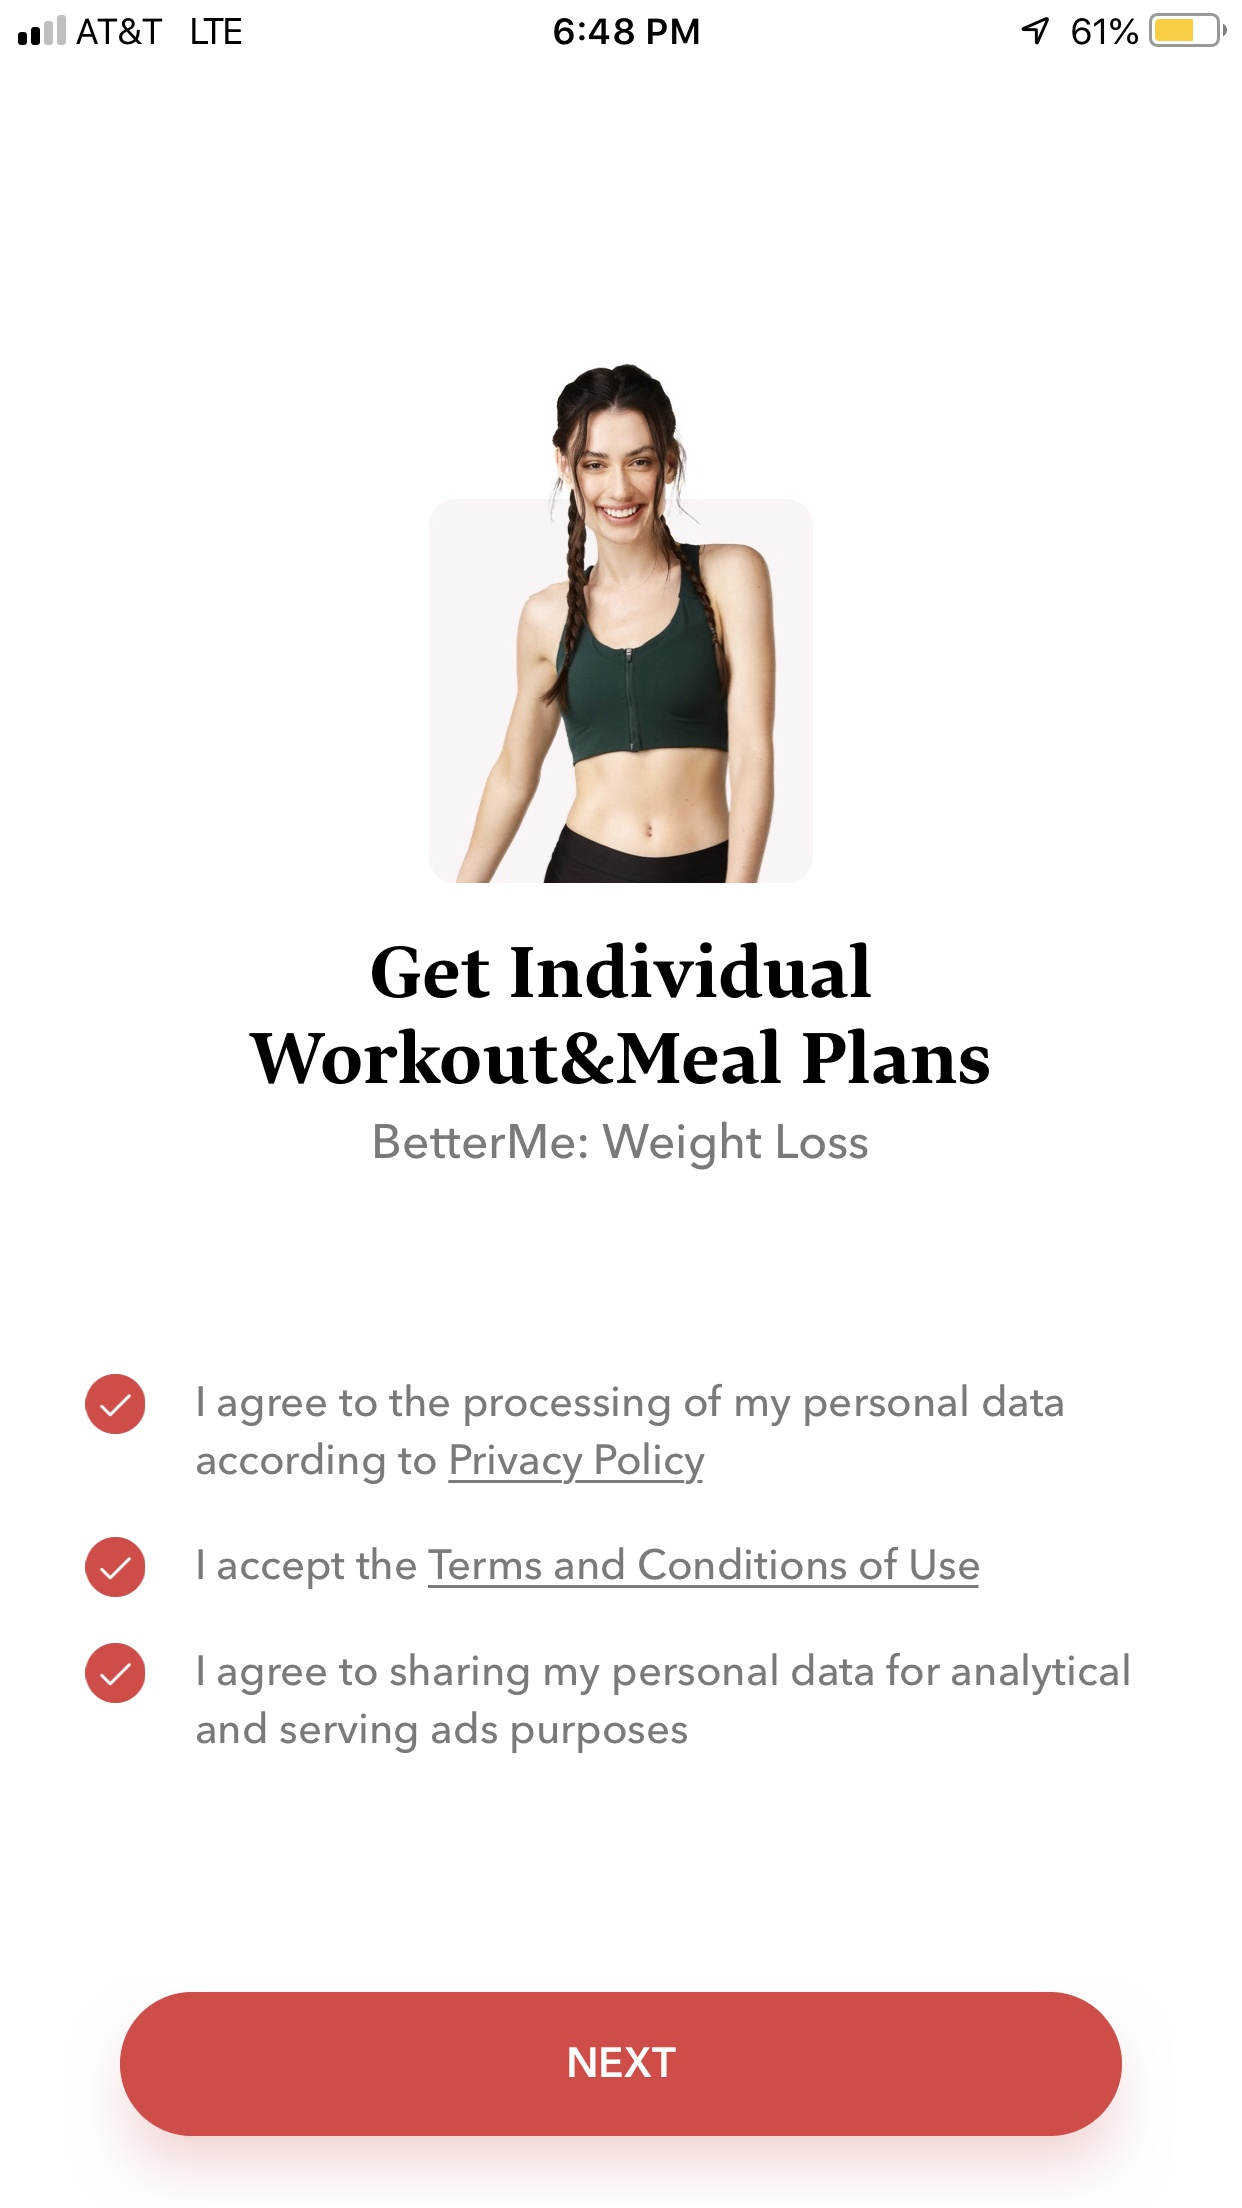CheckedTextView: (85, 1642, 1130, 1755), (85, 1372, 1065, 1485), (85, 1536, 980, 1598)
Image: (429, 364, 814, 886)
Text: (249, 942, 990, 1084), (197, 1651, 1130, 1755), (197, 1383, 1065, 1485), (199, 1545, 980, 1589), (375, 1121, 869, 1171)
TextButton: (120, 1991, 1124, 2137)
UpperTaskBar: (2, 2, 1242, 49)
